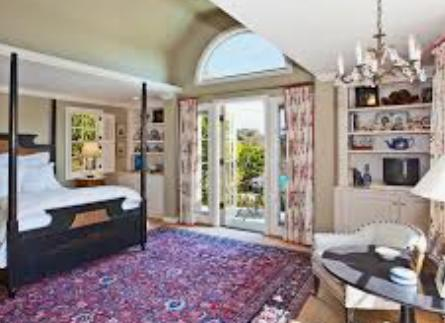carpet: (0, 231, 312, 322)
